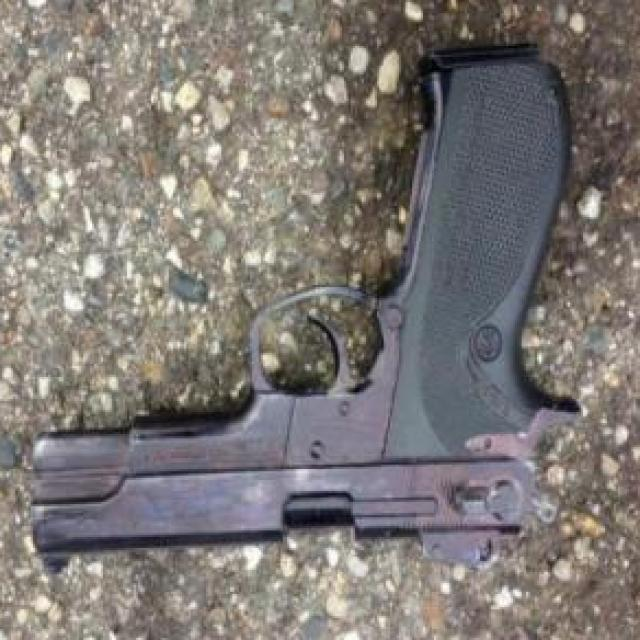pistol: (28, 40, 590, 588)
